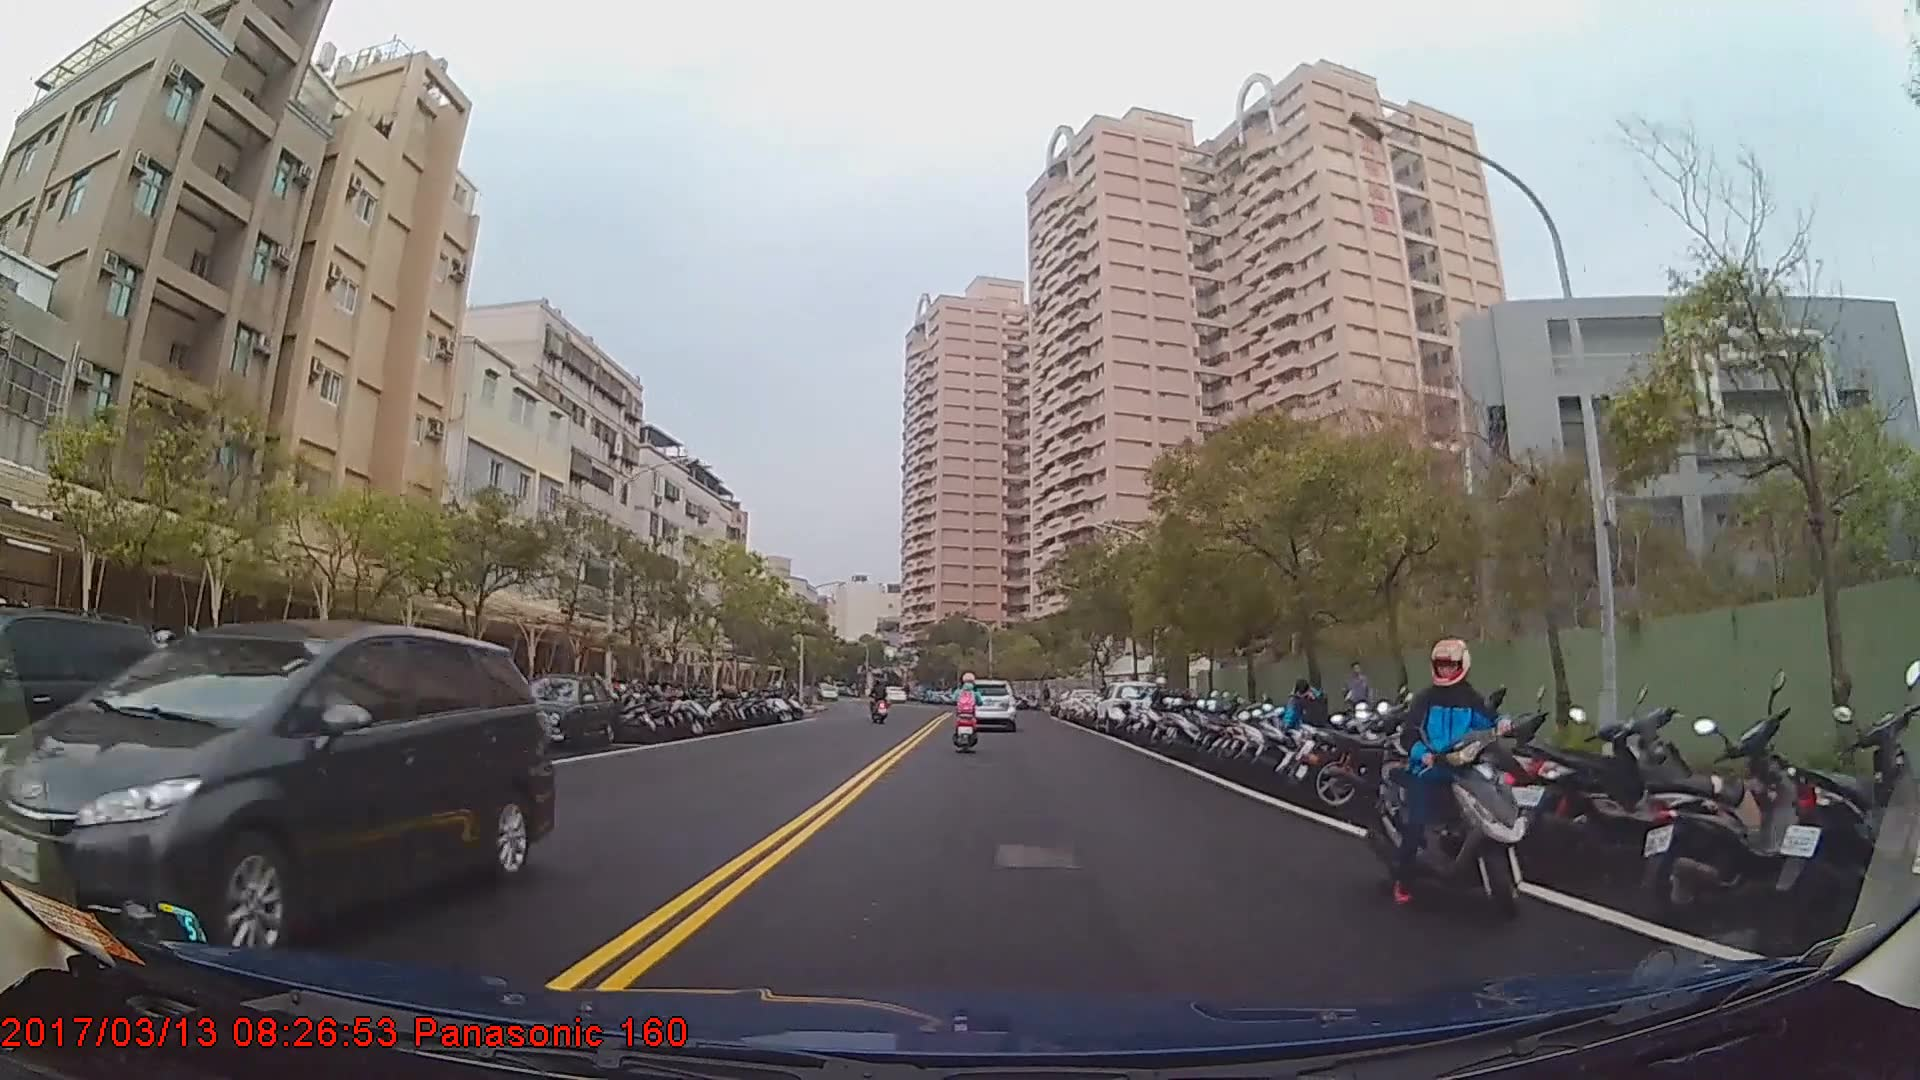pedestrian: (1281, 679, 1331, 776), (1339, 661, 1376, 750)
rider: (1381, 633, 1523, 917), (951, 673, 984, 751), (869, 680, 890, 723)
vehicle: (0, 616, 555, 959), (511, 671, 620, 754), (1094, 678, 1169, 735), (961, 675, 1017, 726)
